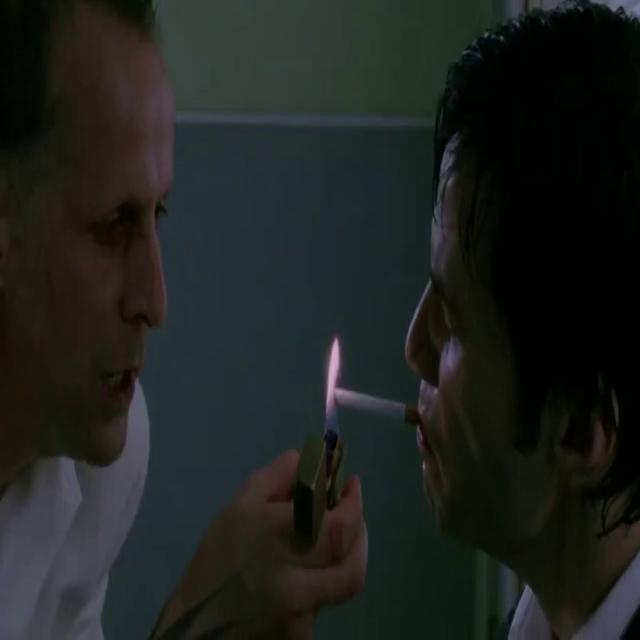Smooking: (328, 374, 428, 442)
